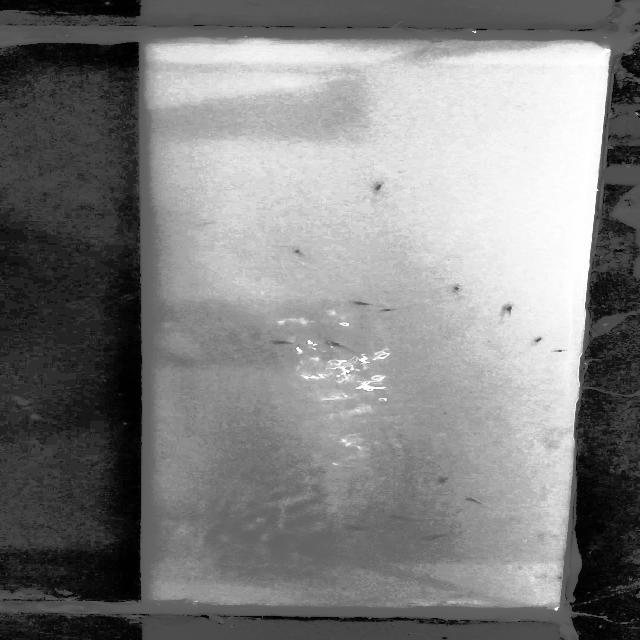shrimp: (359, 178, 394, 199), (378, 508, 416, 526), (426, 472, 464, 489), (346, 293, 375, 310), (497, 301, 525, 318), (336, 521, 371, 534), (376, 304, 408, 316), (264, 336, 294, 348), (461, 495, 488, 508), (323, 340, 356, 350), (532, 332, 547, 347), (421, 534, 449, 542), (446, 281, 461, 295), (550, 348, 571, 356)
